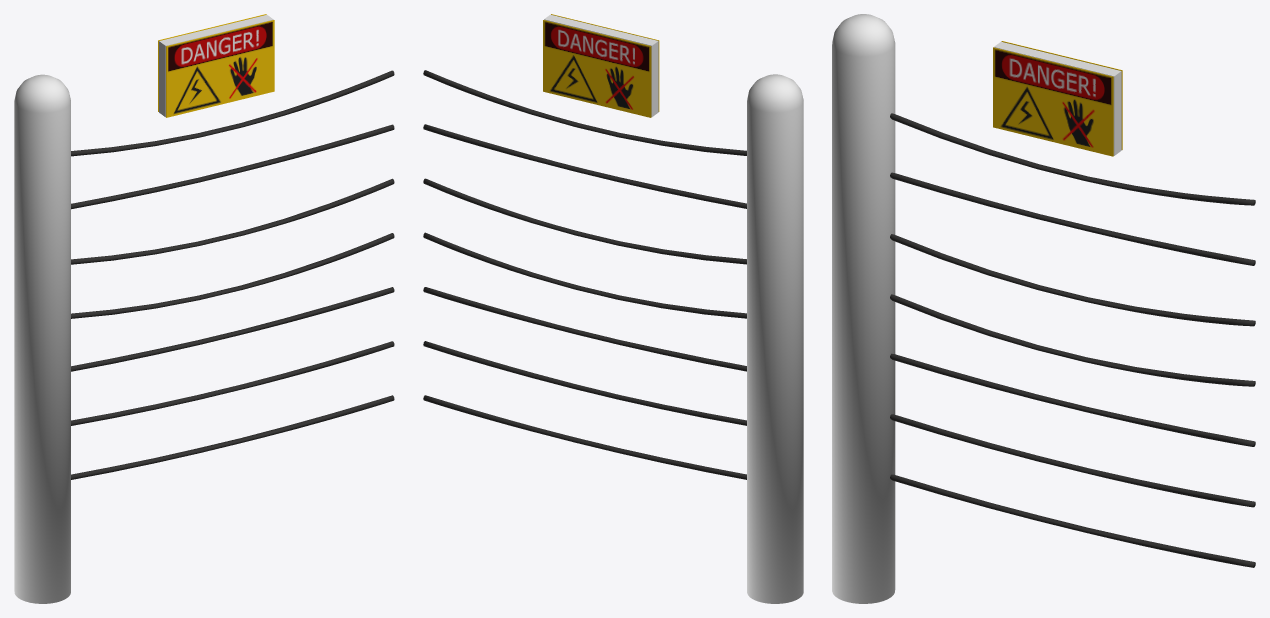
Rendered from FencePost.fbx.
The picture shows the model from 3 angles, left to right: view 1: azimuth 30°, elevation 25°; view 2: azimuth 150°, elevation 25°; view 3: azimuth 330°, elevation 25°; orthographic projection. The views are drawn at different scales.
Visible parts, largest first — view 1: Down, Sign1, Wires.005, Wires.002, Wires.006, Wires.007, Wires.003, Wires.001, Wires.004, MiddleWood; view 2: Down, Sign2, Wires.002, Wires.005, Wires.007, Wires.006, Wires.004, Wires.003, Wires.001, MiddleWood; view 3: Down, Sign1, Wires.005, Wires.007, Wires.006, Wires.002, Wires.001, Wires.003, Wires.004, MiddleWood.
Part boxes in pixels (left/top/right/bottom): Down: left=14, top=74, right=70, bottom=603; Sign1: left=166, top=20, right=274, bottom=117; Wires.005: left=71, top=287, right=394, bottom=371; Wires.002: left=71, top=124, right=394, bottom=209; Wires.006: left=71, top=341, right=394, bottom=425; Wires.007: left=71, top=395, right=394, bottom=479; Wires.003: left=71, top=178, right=394, bottom=264; Wires.001: left=71, top=70, right=394, bottom=156; Wires.004: left=71, top=233, right=394, bottom=318; MiddleWood: left=159, top=15, right=273, bottom=117; Down: left=747, top=74, right=803, bottom=603; Sign2: left=543, top=20, right=651, bottom=117; Wires.002: left=423, top=124, right=746, bottom=208; Wires.005: left=423, top=287, right=746, bottom=371; Wires.007: left=423, top=395, right=746, bottom=479; Wires.006: left=423, top=341, right=746, bottom=425; Wires.004: left=423, top=232, right=746, bottom=318; Wires.003: left=423, top=178, right=746, bottom=264; Wires.001: left=423, top=70, right=746, bottom=155; MiddleWood: left=544, top=14, right=658, bottom=117; Down: left=832, top=14, right=895, bottom=603; Sign1: left=993, top=47, right=1113, bottom=156; Wires.005: left=890, top=353, right=1255, bottom=446; Wires.007: left=890, top=474, right=1255, bottom=567; Wires.006: left=890, top=414, right=1255, bottom=507; Wires.002: left=890, top=172, right=1255, bottom=265; Wires.001: left=890, top=113, right=1255, bottom=205; Wires.003: left=890, top=234, right=1255, bottom=326; Wires.004: left=890, top=294, right=1255, bottom=386; MiddleWood: left=993, top=41, right=1121, bottom=155.
Bounding box in the file's own units: 115 × 152 × 15.
